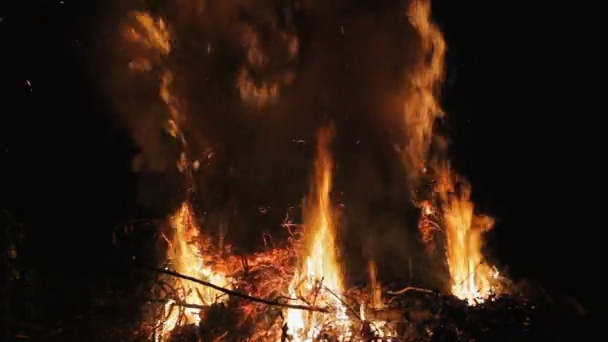fire: (284, 146, 353, 342), (154, 202, 237, 342), (445, 200, 502, 304), (360, 284, 395, 342)
